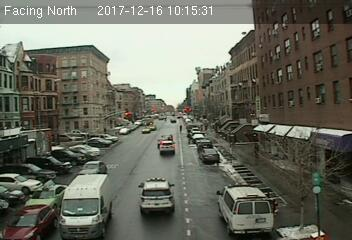car: (1, 204, 57, 240), (27, 181, 66, 208), (79, 160, 107, 177), (200, 149, 219, 163), (158, 141, 176, 153)
police: (216, 180, 275, 235), (137, 175, 177, 215)
truck: (61, 172, 112, 240)
